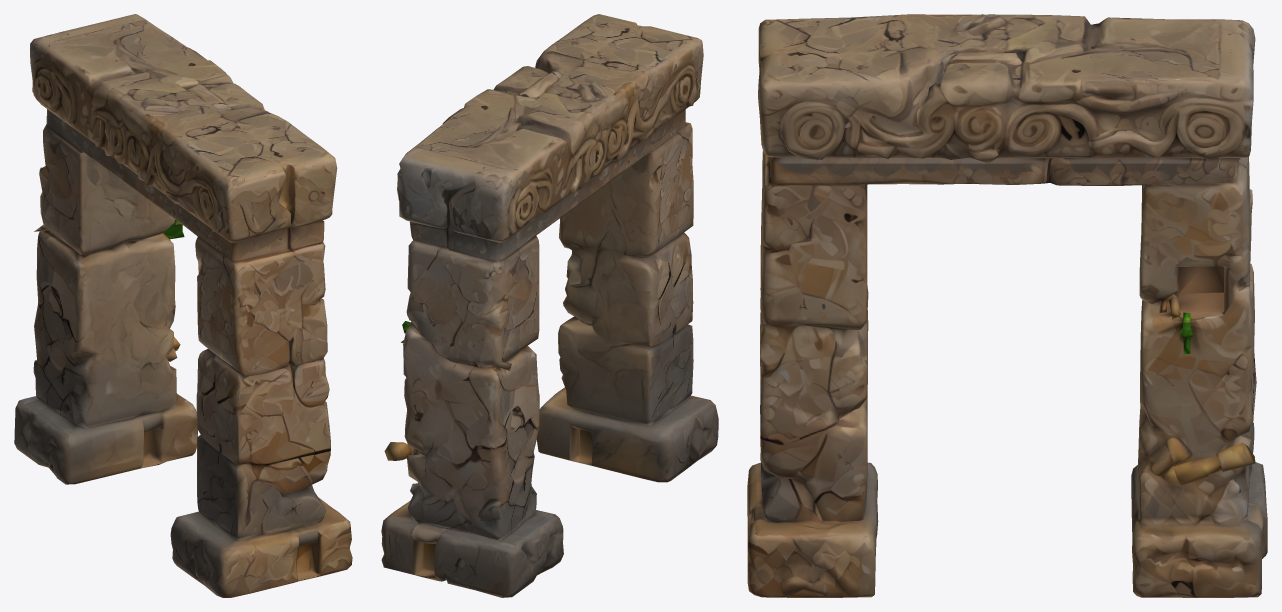
The model's file is portal-model.glb.
3 renders of one model, left to right at view 1: azimuth 30°, elevation 25°; view 2: azimuth 150°, elevation 25°; view 3: azimuth 270°, elevation 25°, orthographic. The views are drawn at different scales.
Visible parts, largest first — view 1: tripo_node_117ca2fa-2bf3-4cc9-a69a-13c711f2afec; view 2: tripo_node_117ca2fa-2bf3-4cc9-a69a-13c711f2afec; view 3: tripo_node_117ca2fa-2bf3-4cc9-a69a-13c711f2afec.
Part boxes in pixels (x1,y1,x2,y2): tripo_node_117ca2fa-2bf3-4cc9-a69a-13c711f2afec: (14,14,352,597); tripo_node_117ca2fa-2bf3-4cc9-a69a-13c711f2afec: (381,14,718,597); tripo_node_117ca2fa-2bf3-4cc9-a69a-13c711f2afec: (747,14,1267,597).
Size of the model in its own units: 0.3569 by 0.9994 by 0.9095.
Materials: 1 (1 with a texture image).
